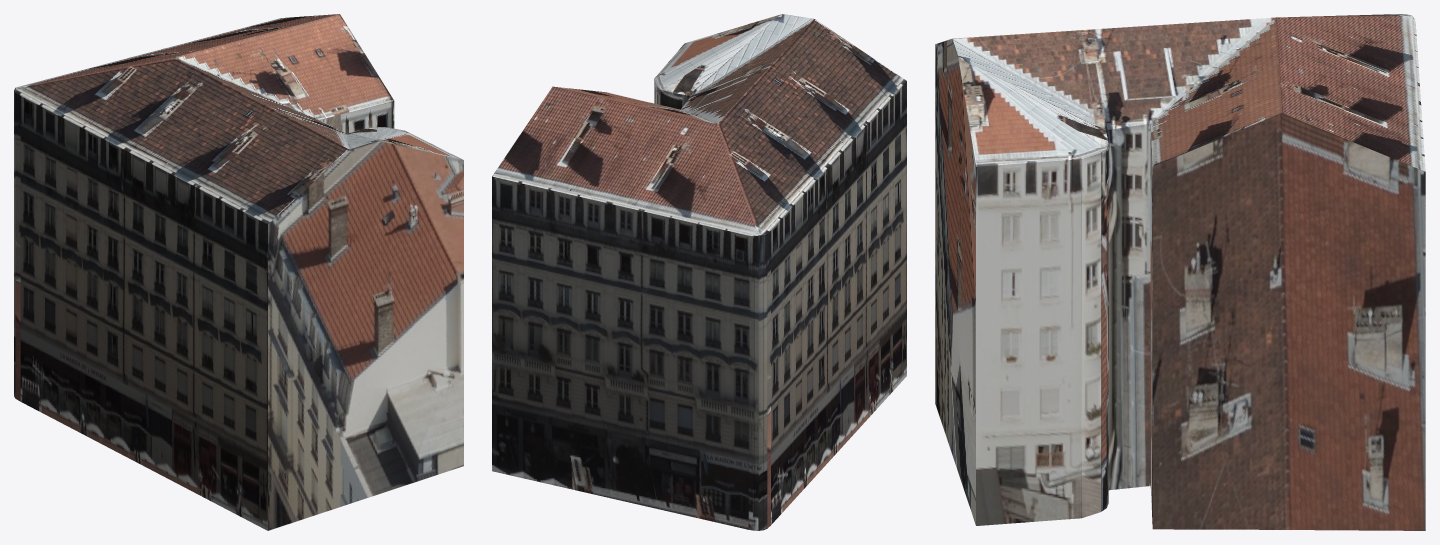
The picture shows the model from 3 angles, left to right: view 1: azimuth 30°, elevation 25°; view 2: azimuth 150°, elevation 25°; view 3: azimuth 270°, elevation 25°; orthographic projection. The views are drawn at different scales.
Visible parts, largest first — view 1: Z_UP; view 2: Z_UP; view 3: Z_UP.
Part boxes in pixels (box(x1,y1,x2,y2)): Z_UP: box(14, 14, 463, 530); Z_UP: box(492, 14, 906, 530); Z_UP: box(935, 14, 1425, 530).
Size of the model in its own units: 21.95 by 27.02 by 28.81.
Materials: 2 (1 with a texture image).
